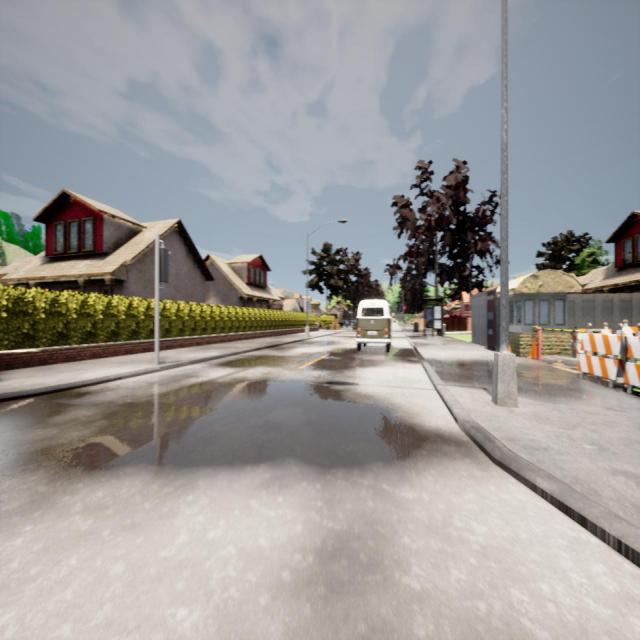Vehicle: (356, 299, 391, 351)
traffic_light: (157, 239, 172, 290), (404, 304, 406, 314)
